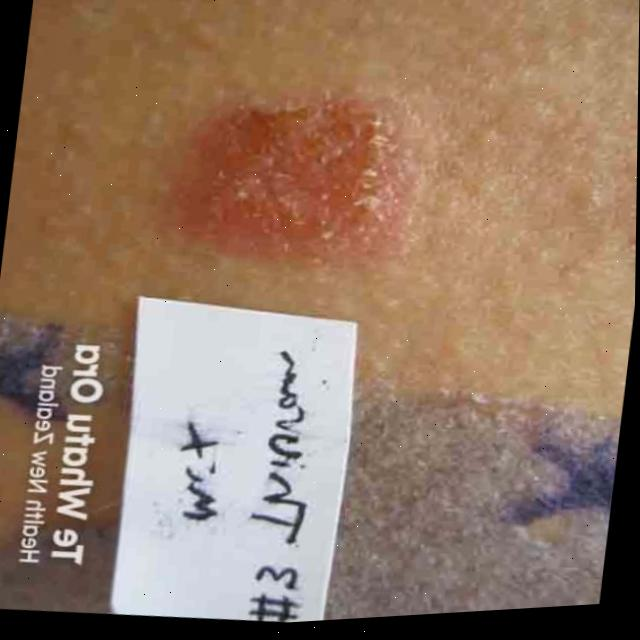Eczema: (160, 78, 394, 287)
